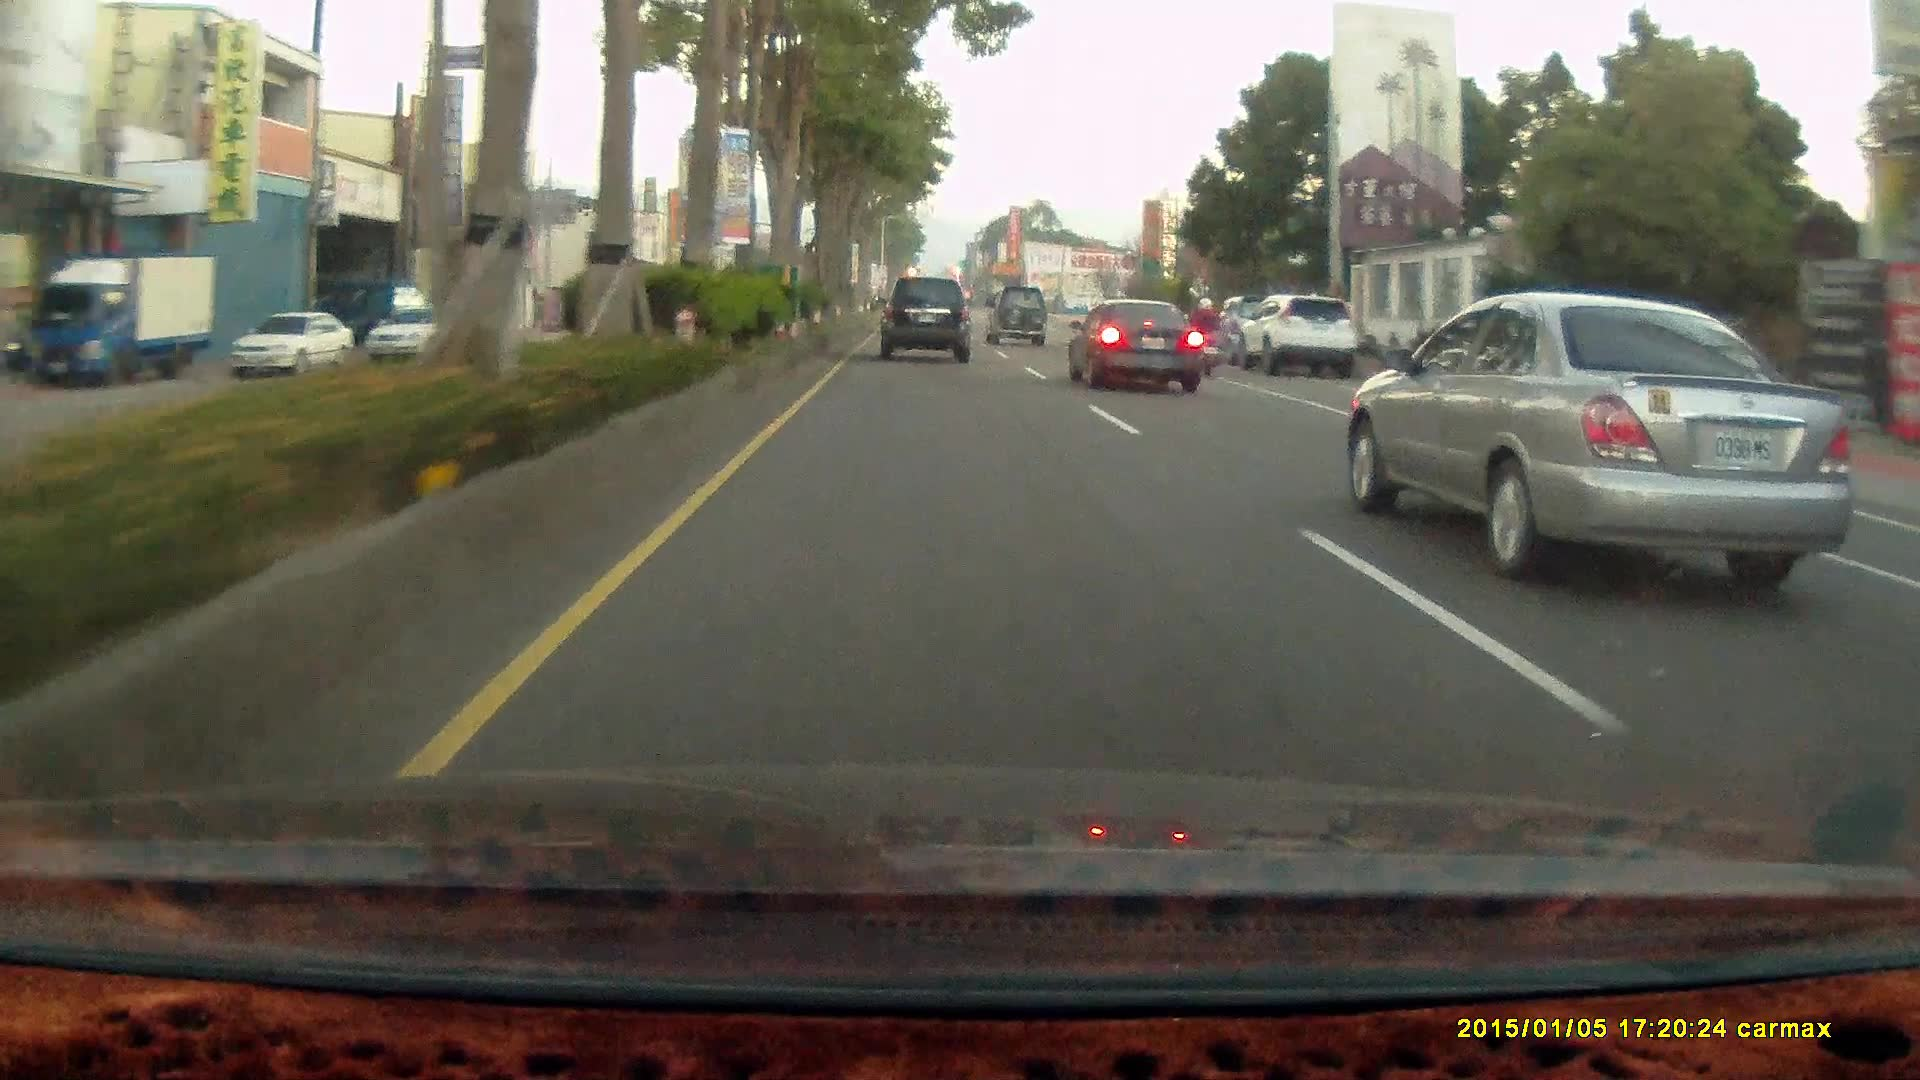rider: (1183, 294, 1220, 373)
vehicle: (1345, 295, 1855, 586), (20, 251, 219, 389), (19, 254, 221, 389), (1068, 301, 1211, 398), (1063, 298, 1204, 393), (1234, 296, 1358, 381), (1247, 298, 1361, 381), (876, 277, 976, 367), (231, 308, 355, 376), (231, 313, 355, 380), (877, 275, 970, 362), (364, 301, 472, 362), (986, 293, 1052, 354), (985, 288, 1047, 348)
